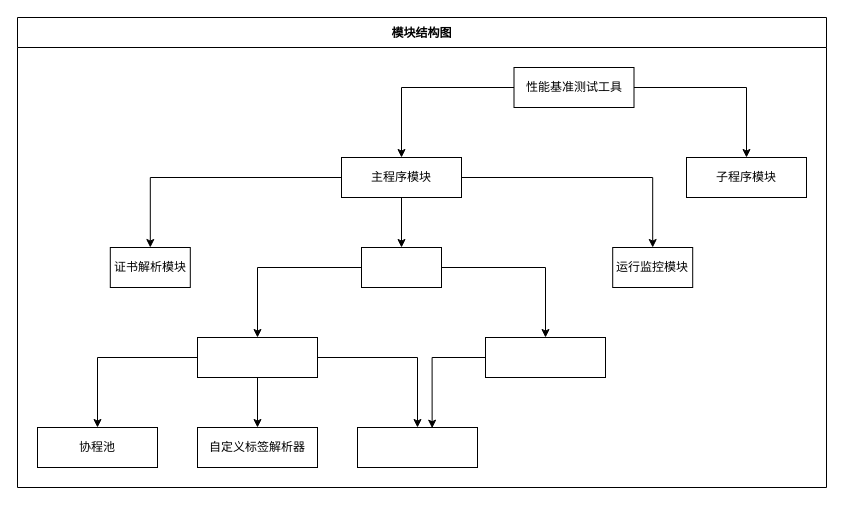
Some shapes in this 844 by 505 pixel diagram are drawn without their labels. Each missing label, with the centre of its shape:
HTTP代理服务模块: the point at 401,267
执行器模块: the point at 257,357
数据管理器模块: the point at 545,357
请求追踪器: the point at 417,447
